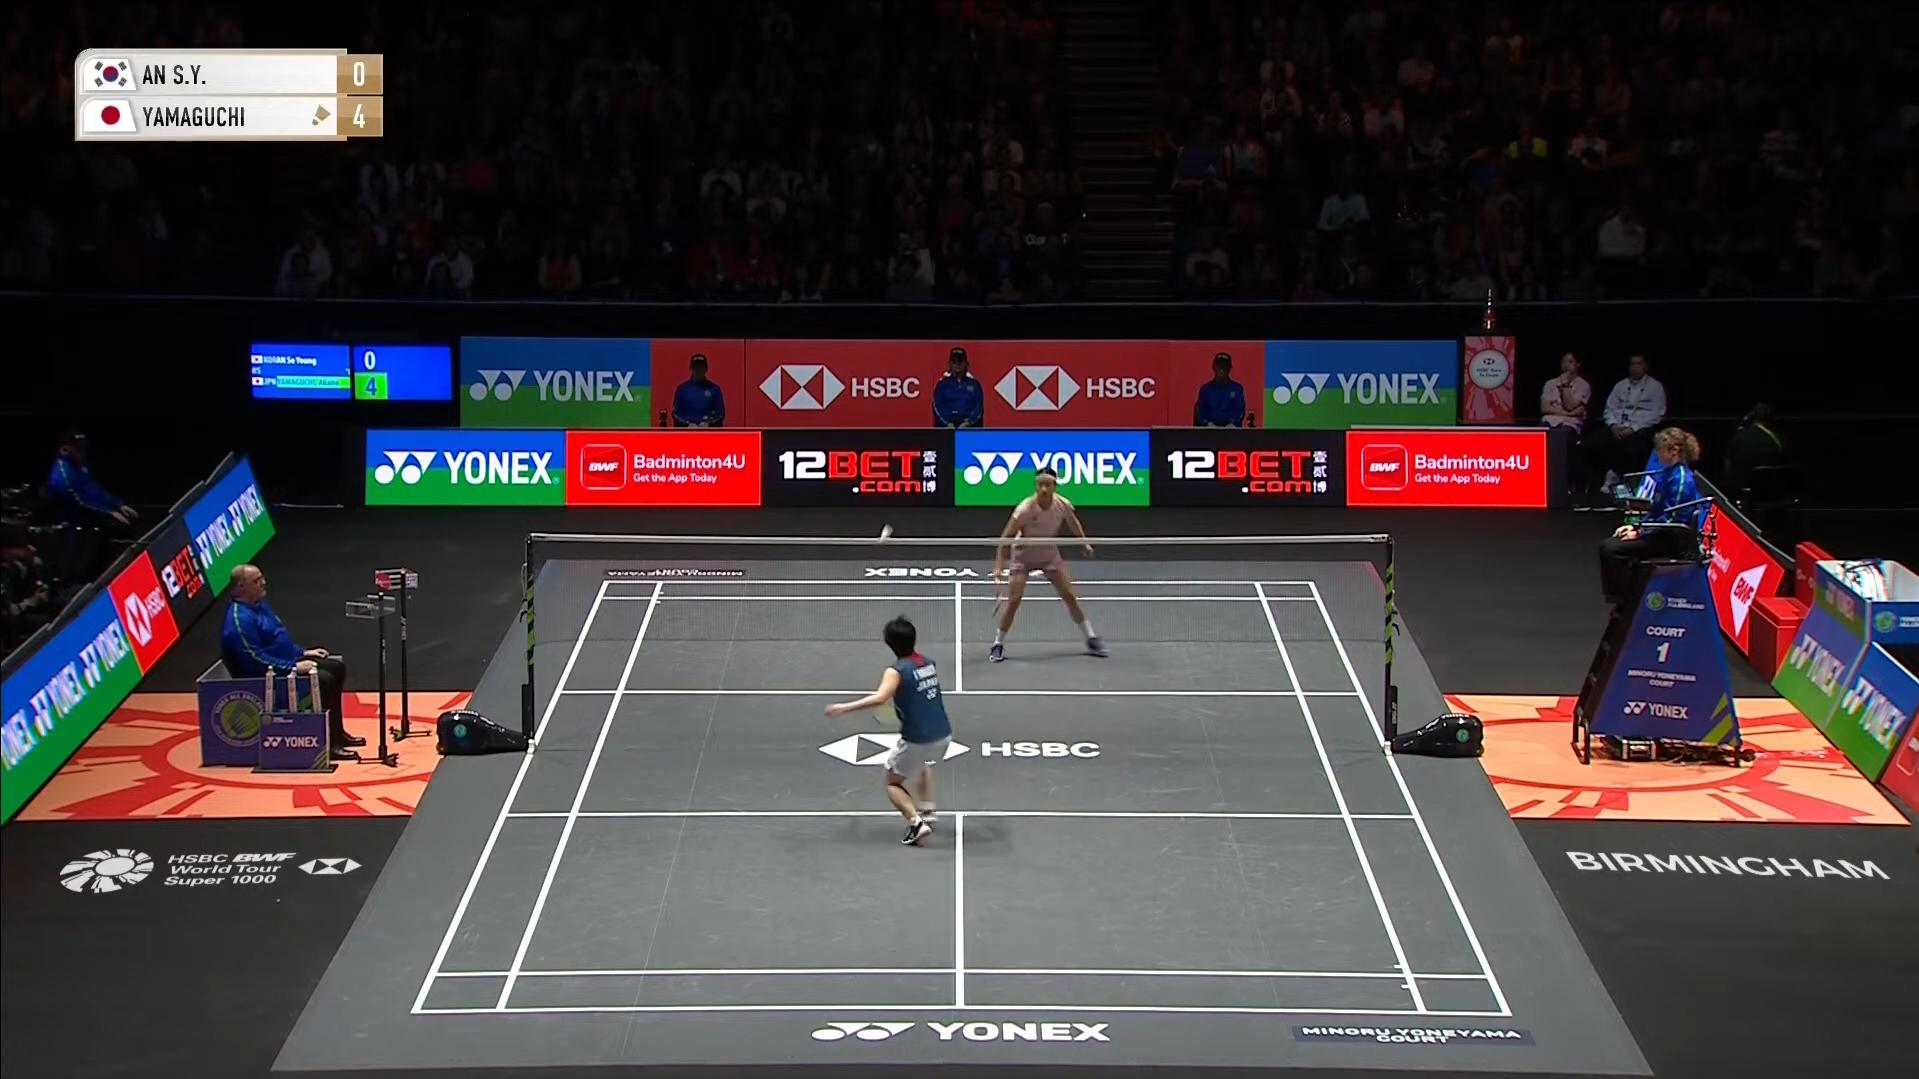shuttle: (874, 520, 898, 549)
